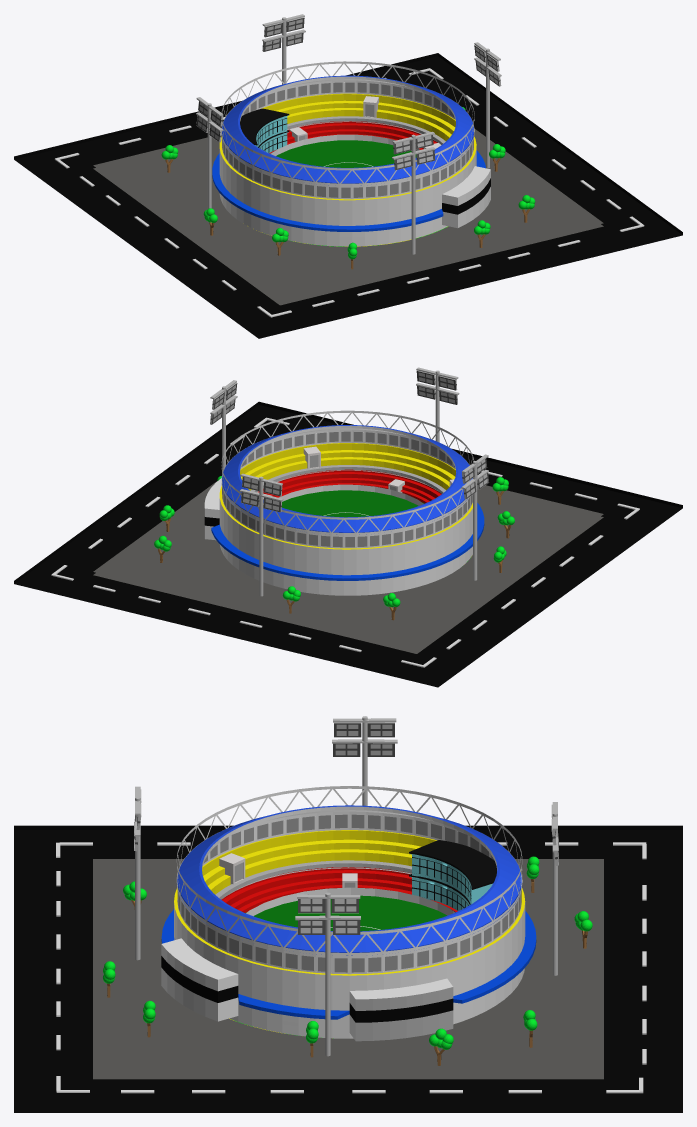
3 renders of one model, top to bottom at view 1: azimuth 30°, elevation 25°; view 2: azimuth 150°, elevation 25°; view 3: azimuth 270°, elevation 25°, orthographic. The views are drawn at different scales.
Parts seen in each view (by area): view 1: Plane, Cylinder.009, Cylinder.010, Circle, Cylinder.012, Cube.009, Cylinder.007, Cube.012, Cylinder.008, Cube.010, Cube.011, Cylinder.006 (+2 smaller); view 2: Plane, Cylinder.009, Cylinder.010, Circle, Cube.012, Cylinder.007, Cylinder.008, Cube.009, Cube.010, Cylinder.006, Cylinder.004, Cube.011 (+1 smaller); view 3: Plane, Cylinder.009, Cylinder.010, Cylinder.012, Circle, Cube.011, Cube.010, Cylinder.007, Cylinder.008, Cylinder.006, Cylinder.004, Cylinder.003 (+4 smaller).
Part boxes in pixels (<box>): Plane: <box>14,53,682,338</box>; Cylinder.009: <box>212,93,490,246</box>; Cylinder.010: <box>221,61,474,199</box>; Circle: <box>271,134,419,167</box>; Cylinder.012: <box>240,108,289,153</box>; Cube.009: <box>392,131,435,254</box>; Cylinder.007: <box>287,108,451,140</box>; Cube.012: <box>262,14,305,84</box>; Cylinder.008: <box>276,100,455,134</box>; Cube.010: <box>196,97,223,222</box>; Cube.011: <box>474,42,501,168</box>; Cylinder.006: <box>287,116,445,144</box>; Plane: <box>14,401,682,687</box>; Cylinder.009: <box>204,443,484,595</box>; Cylinder.010: <box>221,410,474,548</box>; Circle: <box>278,484,424,517</box>; Cube.012: <box>239,473,283,596</box>; Cylinder.007: <box>248,457,449,490</box>; Cylinder.008: <box>241,450,455,481</box>; Cube.009: <box>416,367,459,442</box>; Cube.010: <box>461,454,489,580</box>; Cylinder.006: <box>250,465,445,493</box>; Cylinder.004: <box>259,472,441,498</box>; Cube.011: <box>210,380,237,474</box>; Plane: <box>14,825,682,1112</box>; Cylinder.009: <box>161,830,536,1041</box>; Cylinder.010: <box>176,786,522,974</box>; Cylinder.012: <box>409,840,496,910</box>; Circle: <box>245,887,454,931</box>; Cube.011: <box>295,892,360,1056</box>; Cube.010: <box>332,716,397,805</box>; Cylinder.007: <box>208,849,411,894</box>; Cylinder.008: <box>203,839,421,885</box>; Cylinder.006: <box>215,860,411,899</box>; Cylinder.004: <box>222,870,411,905</box>; Cylinder.003: <box>230,878,411,909</box>.
Size of the model in its own units: 3143 by 859 by 3143.
